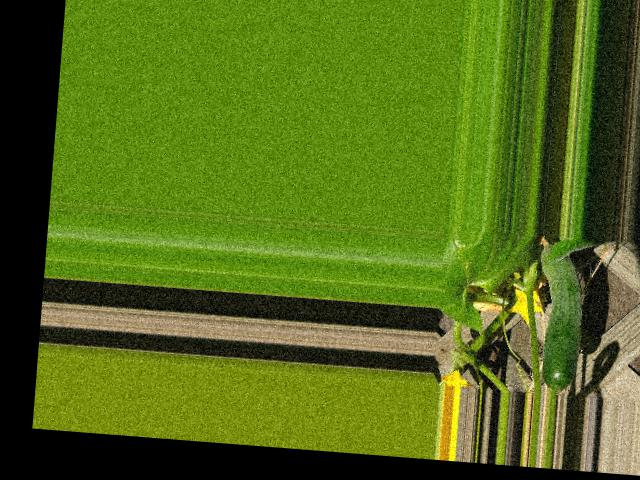cucumber: (531, 235, 589, 389)
